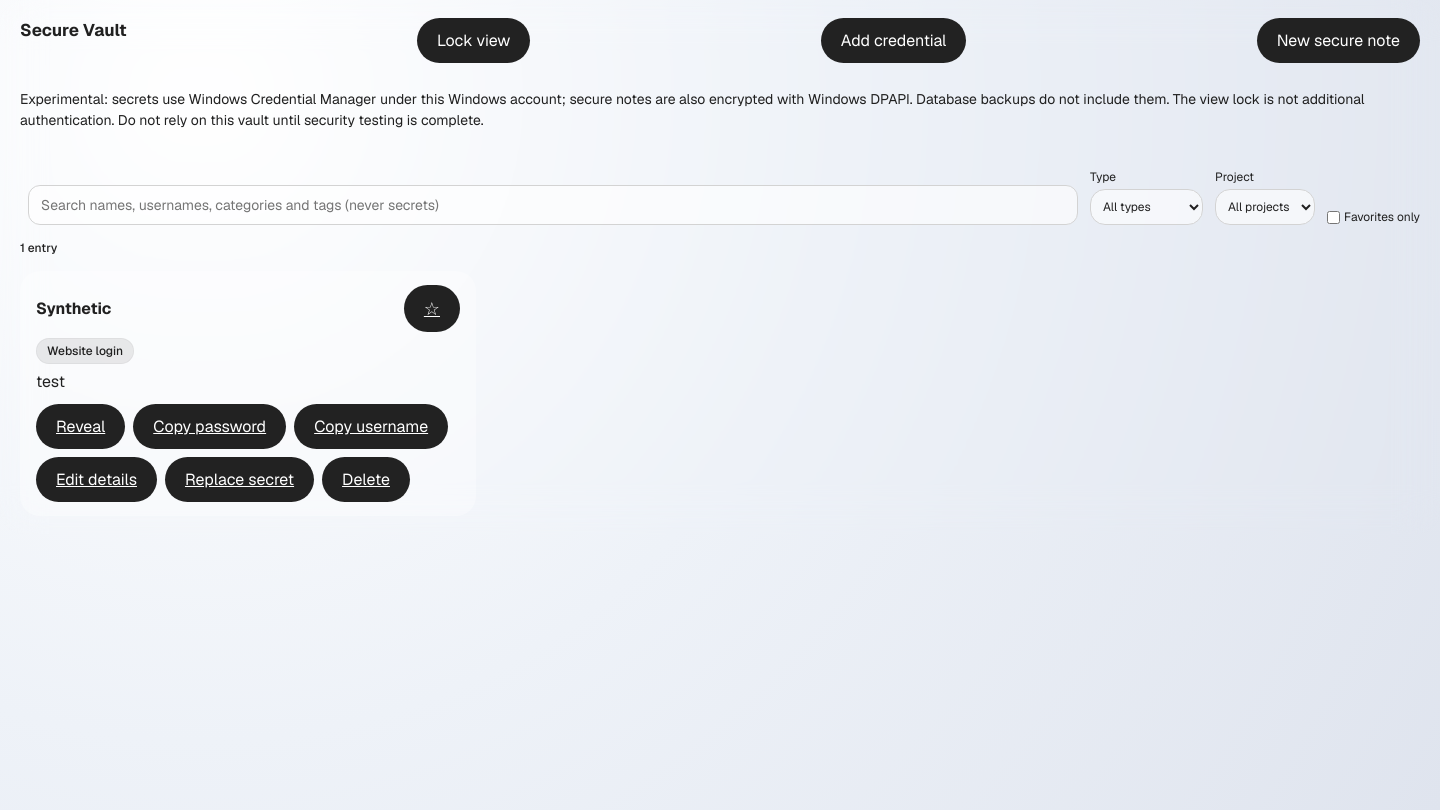
Test: replacement reports cleanup warnings without retrying the change
Click the button "Replace secret" at (240, 480), box [165, 457, 314, 502]
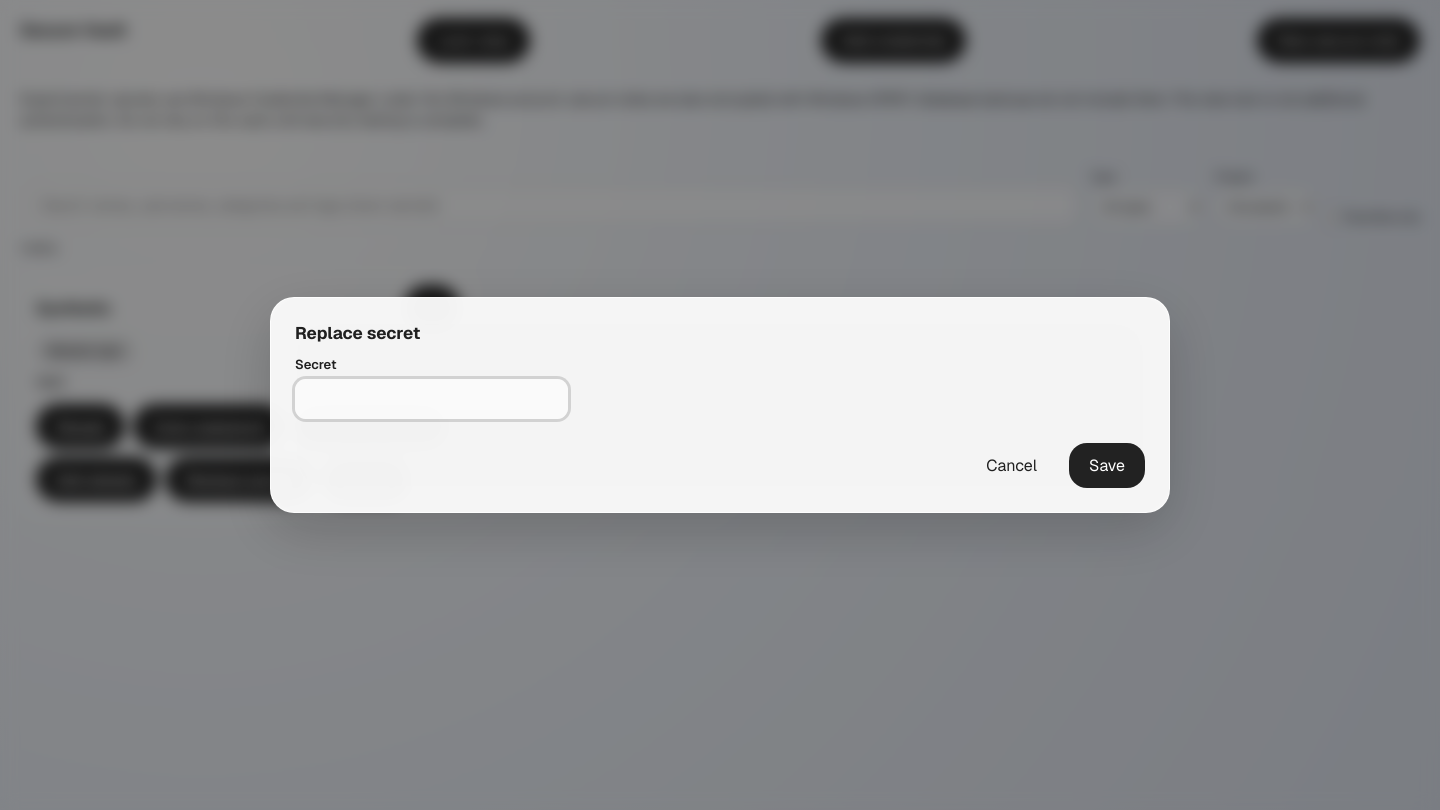
Type "replacement-only" into the password field labelled "Secret" at (431, 399), box [295, 379, 568, 419]
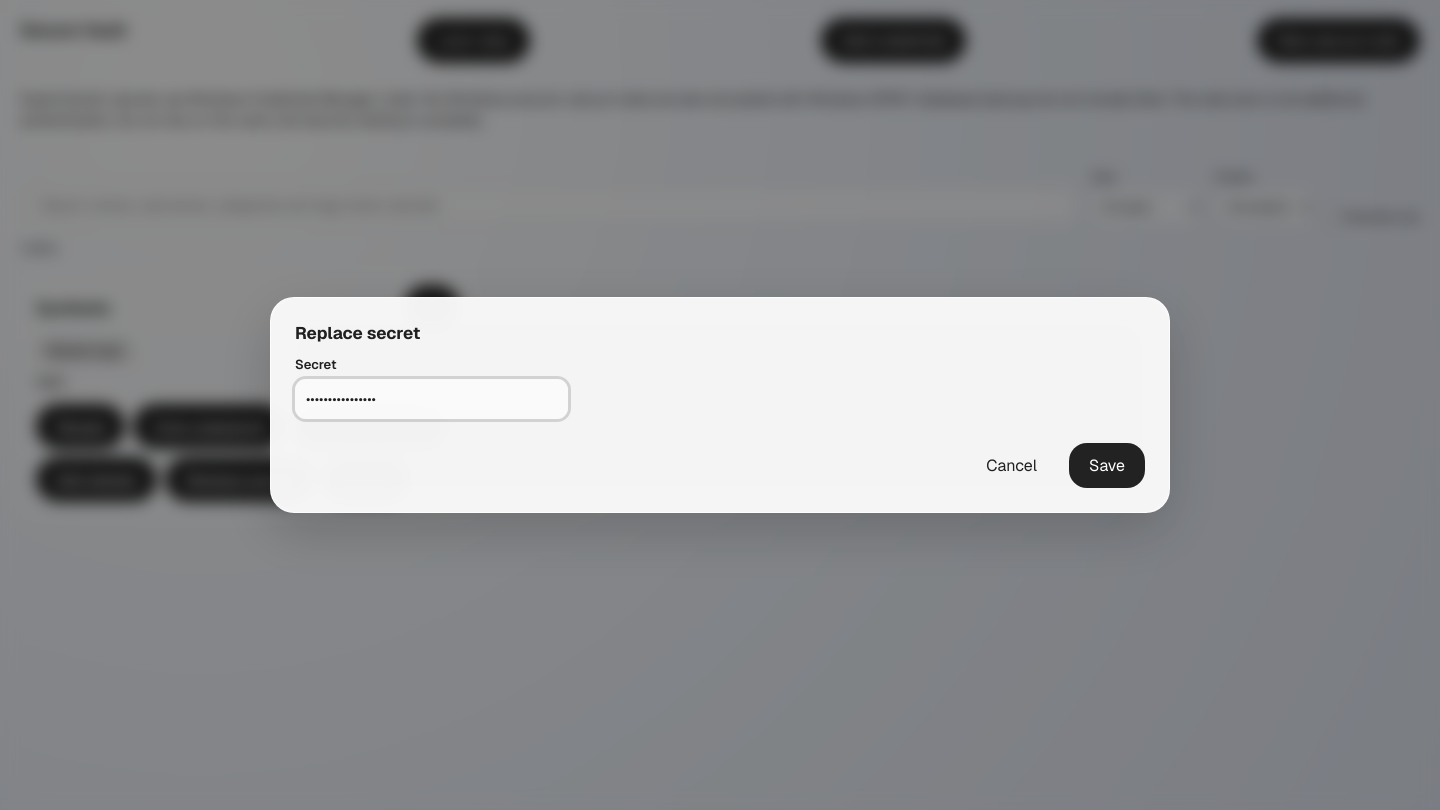
Click the button "Save" at (1107, 466), box [1069, 443, 1145, 488]
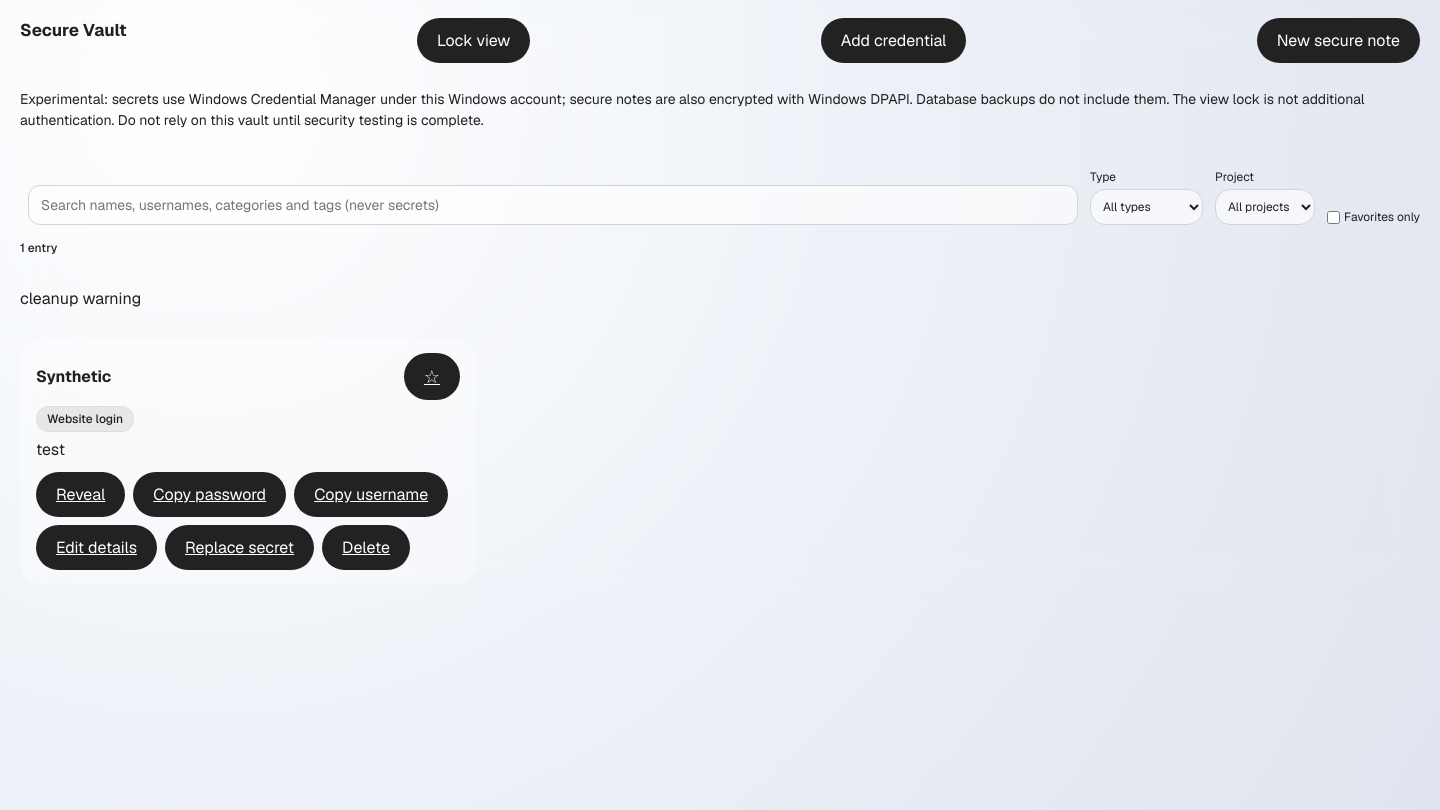
Now the text "cleanup warning" is shown, box [20, 288, 141, 309]
Now the dialog is gone
